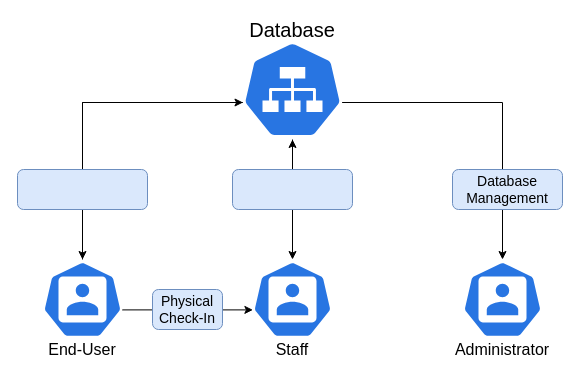
Image size: 580x376. Some labels were removed from this diagram. The centre of each missing label's shape, as x and y in pixels:
"Add/Edit/Delete Events" belongs at point (292, 189).
"Virtual Registration and Check-In" belongs at point (82, 189).
